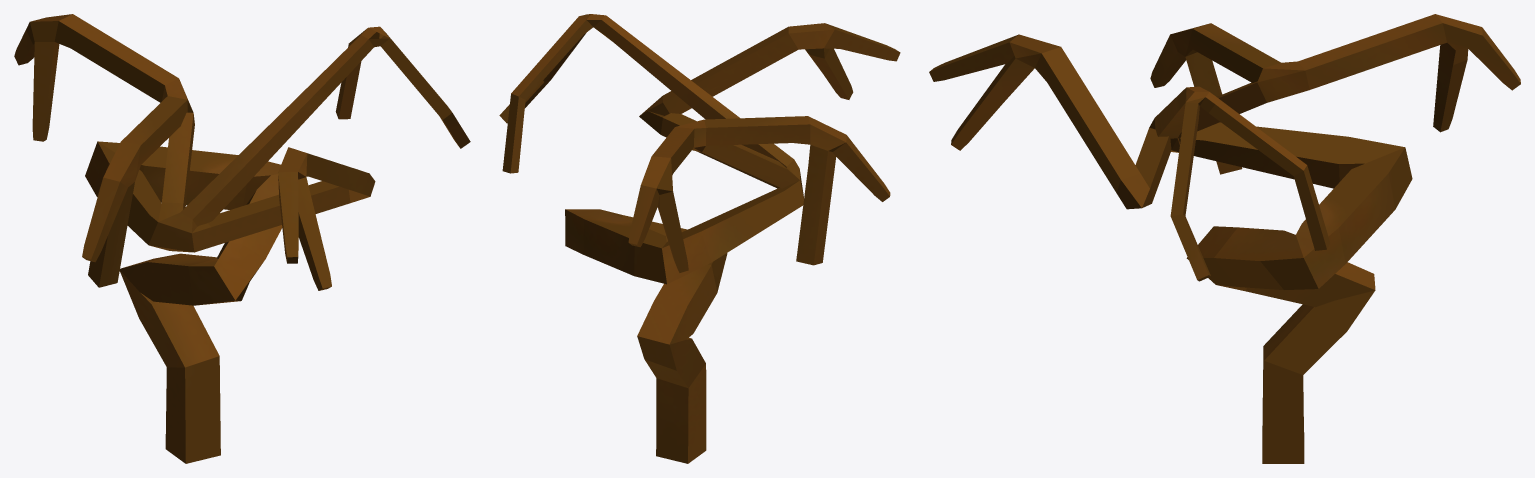
The model's file is kuru_agac1.fbx.
The picture shows the model from 3 angles, left to right: view 1: azimuth 30°, elevation 25°; view 2: azimuth 150°, elevation 25°; view 3: azimuth 270°, elevation 25°; orthographic projection. The views are drawn at different scales.
Visible parts, largest first — view 1: olu agac 2; view 2: olu agac 2; view 3: olu agac 2.
Boxes of the visible parts, x1,y1,x2,y2 form: olu agac 2: [14, 14, 470, 463]; olu agac 2: [499, 14, 900, 463]; olu agac 2: [929, 14, 1520, 463].
Size of the model in its own units: 6.56 by 6.43 by 7.93.
1 material, 1 textured.
